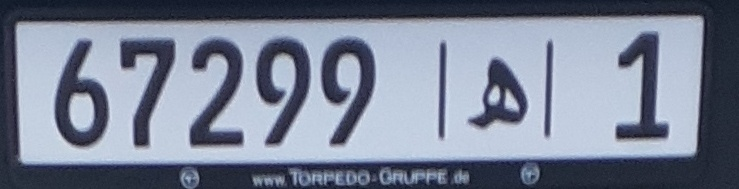1: (605, 21, 678, 149)
2: (186, 31, 246, 152)
6: (44, 32, 114, 156)
7: (117, 30, 183, 160)
9: (316, 29, 385, 151), (251, 28, 315, 153)
h: (467, 42, 536, 144)
